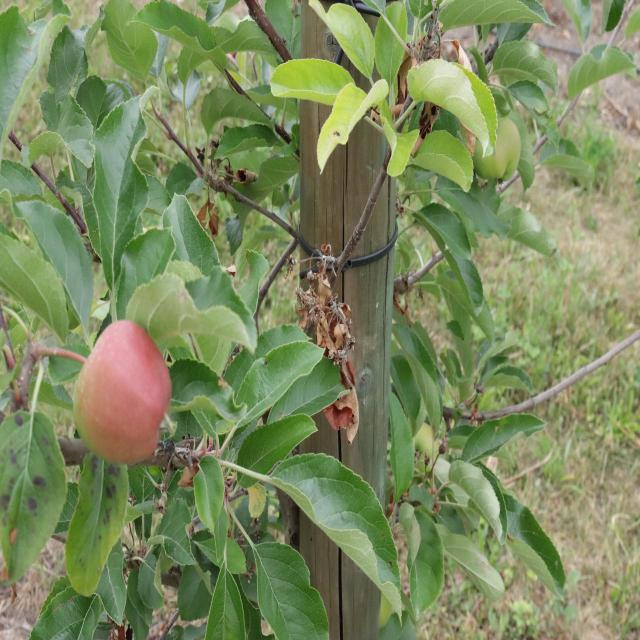-FireBlight-: (294, 252, 359, 443), (196, 169, 223, 233)
